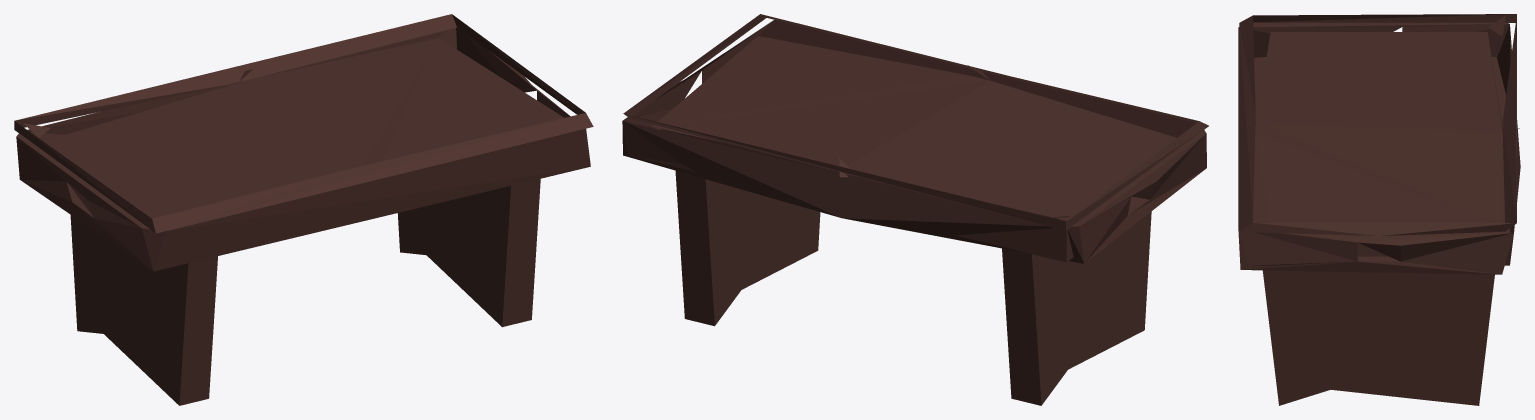
Rendered from pool-table.lod2.glb.
3 renders of one model, left to right at view 1: azimuth 30°, elevation 25°; view 2: azimuth 150°, elevation 25°; view 3: azimuth 270°, elevation 25°, orthographic. The views are drawn at different scales.
Visible parts, largest first — view 1: Object_2; view 2: Object_2; view 3: Object_2.
Boxes of the visible parts, x1=… form: Object_2: x1=14, y1=14, x2=593, y2=405; Object_2: x1=622, y1=14, x2=1208, y2=405; Object_2: x1=1238, y1=14, x2=1520, y2=405.
Bounding box in the file's own units: 2.6 × 1.13 × 1.42.
